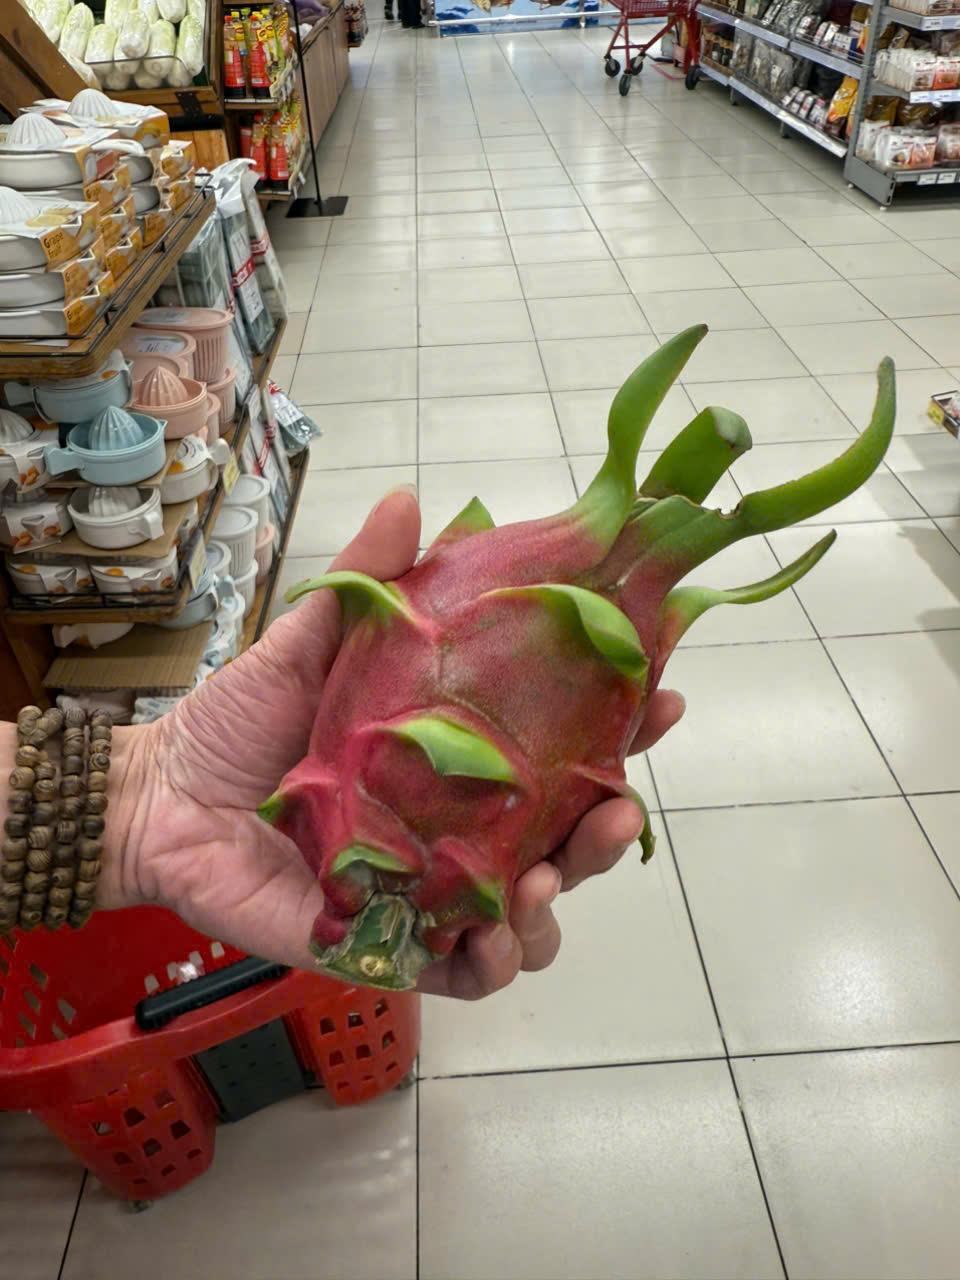dragon fruit: (248, 303, 908, 1004)
